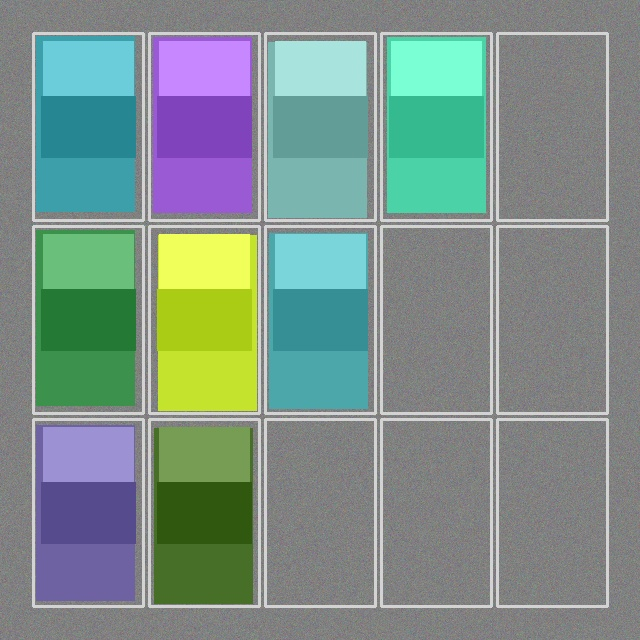space-empty: (499, 35, 605, 218), (383, 228, 489, 411), (499, 228, 605, 411), (267, 421, 373, 604), (383, 421, 489, 604), (499, 421, 605, 604)
space-occupied: (35, 35, 141, 218), (151, 35, 257, 218), (267, 35, 373, 218), (383, 35, 489, 218), (35, 228, 141, 411), (151, 228, 257, 411), (267, 228, 373, 411), (35, 421, 141, 604), (151, 421, 257, 604)
